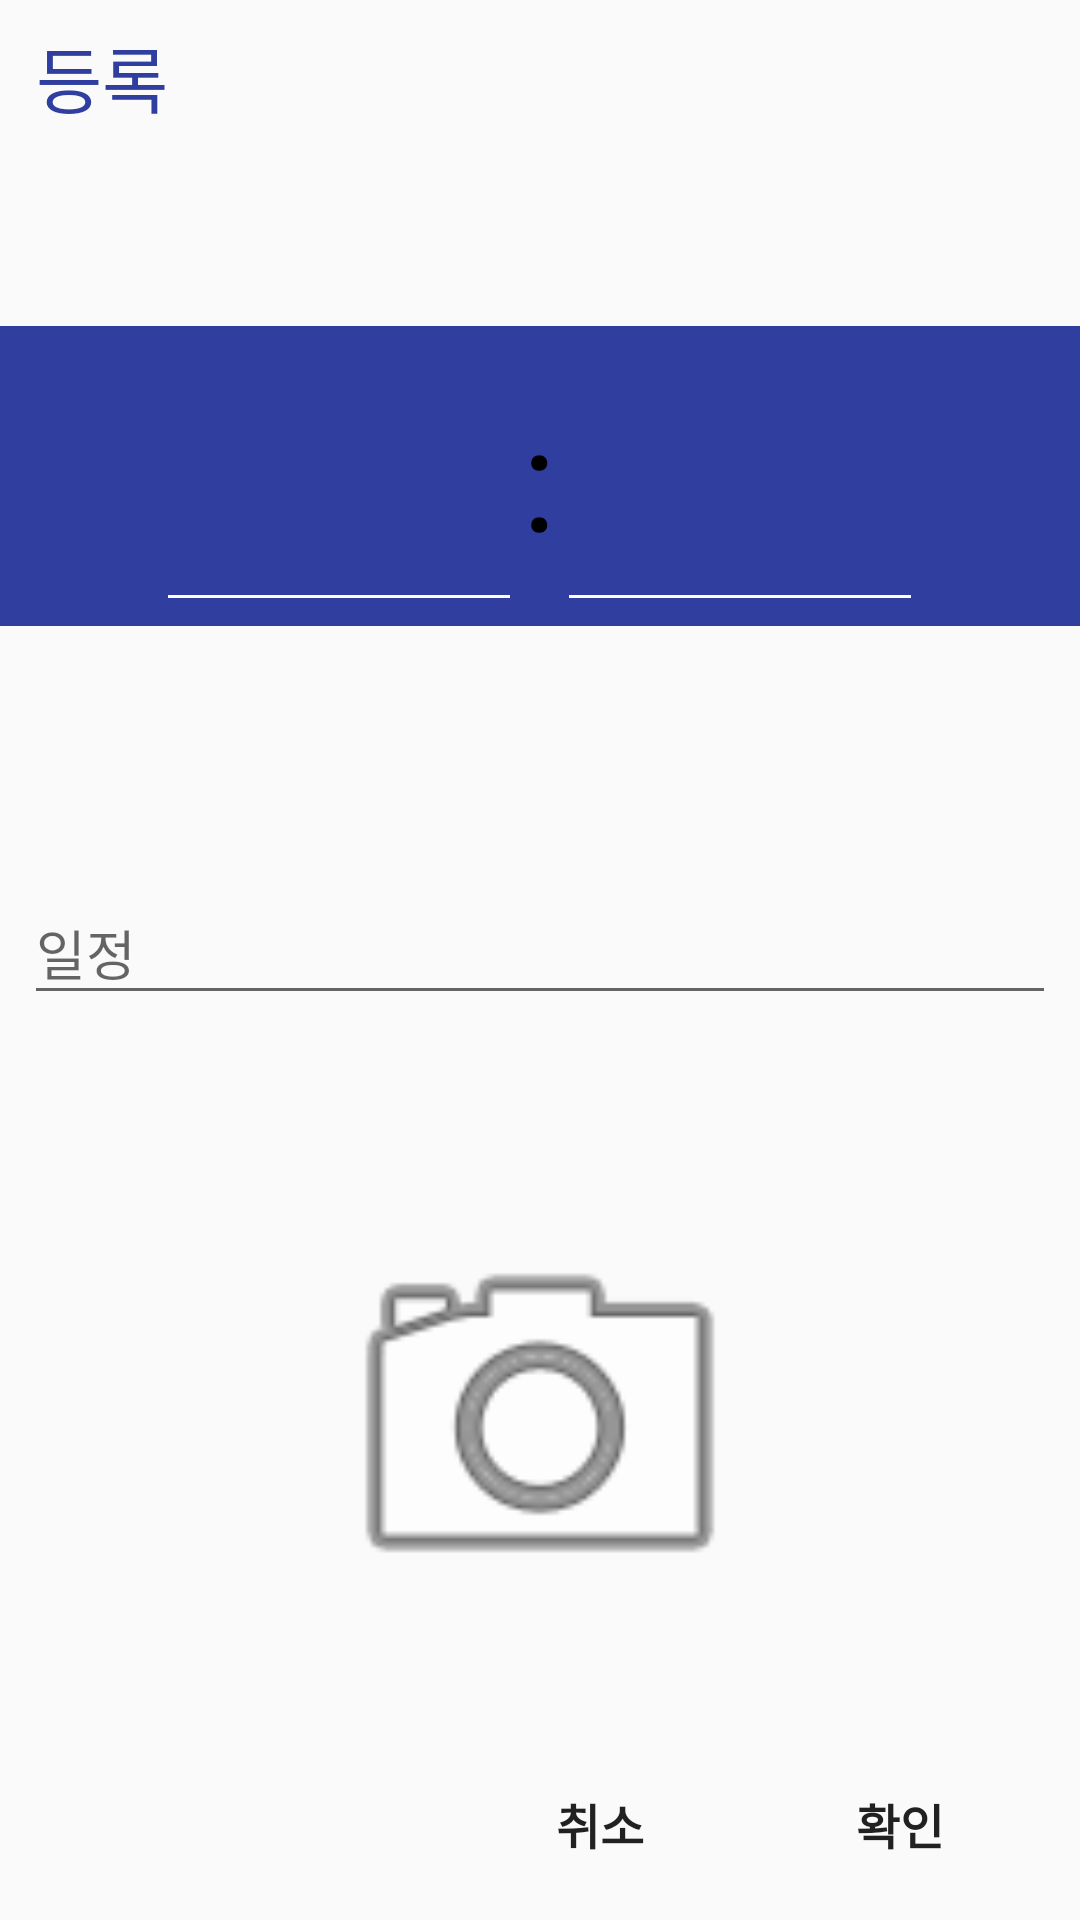

Icons on this 1080 x 1920 Android screen, each with its box as bbox=(x1, y1, x2, y2):
camera: bbox=(366, 1274, 714, 1552)
